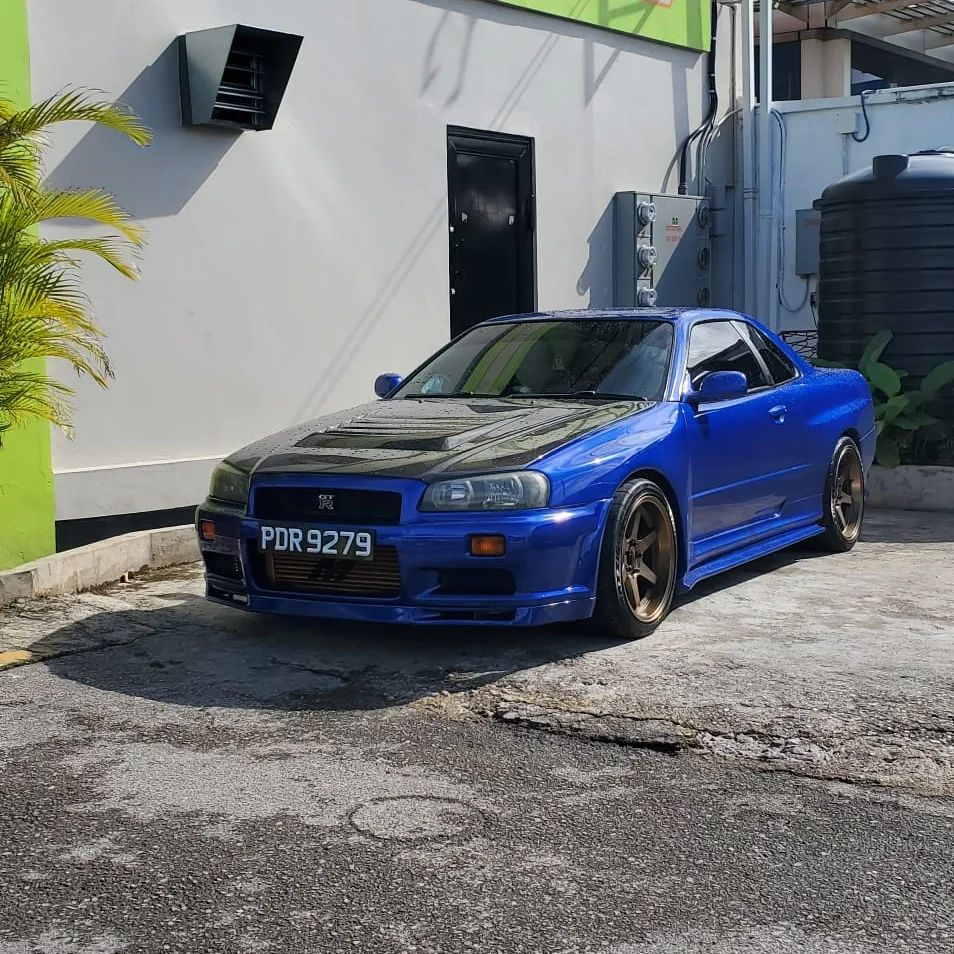License-Plate: (259, 524, 373, 552)
